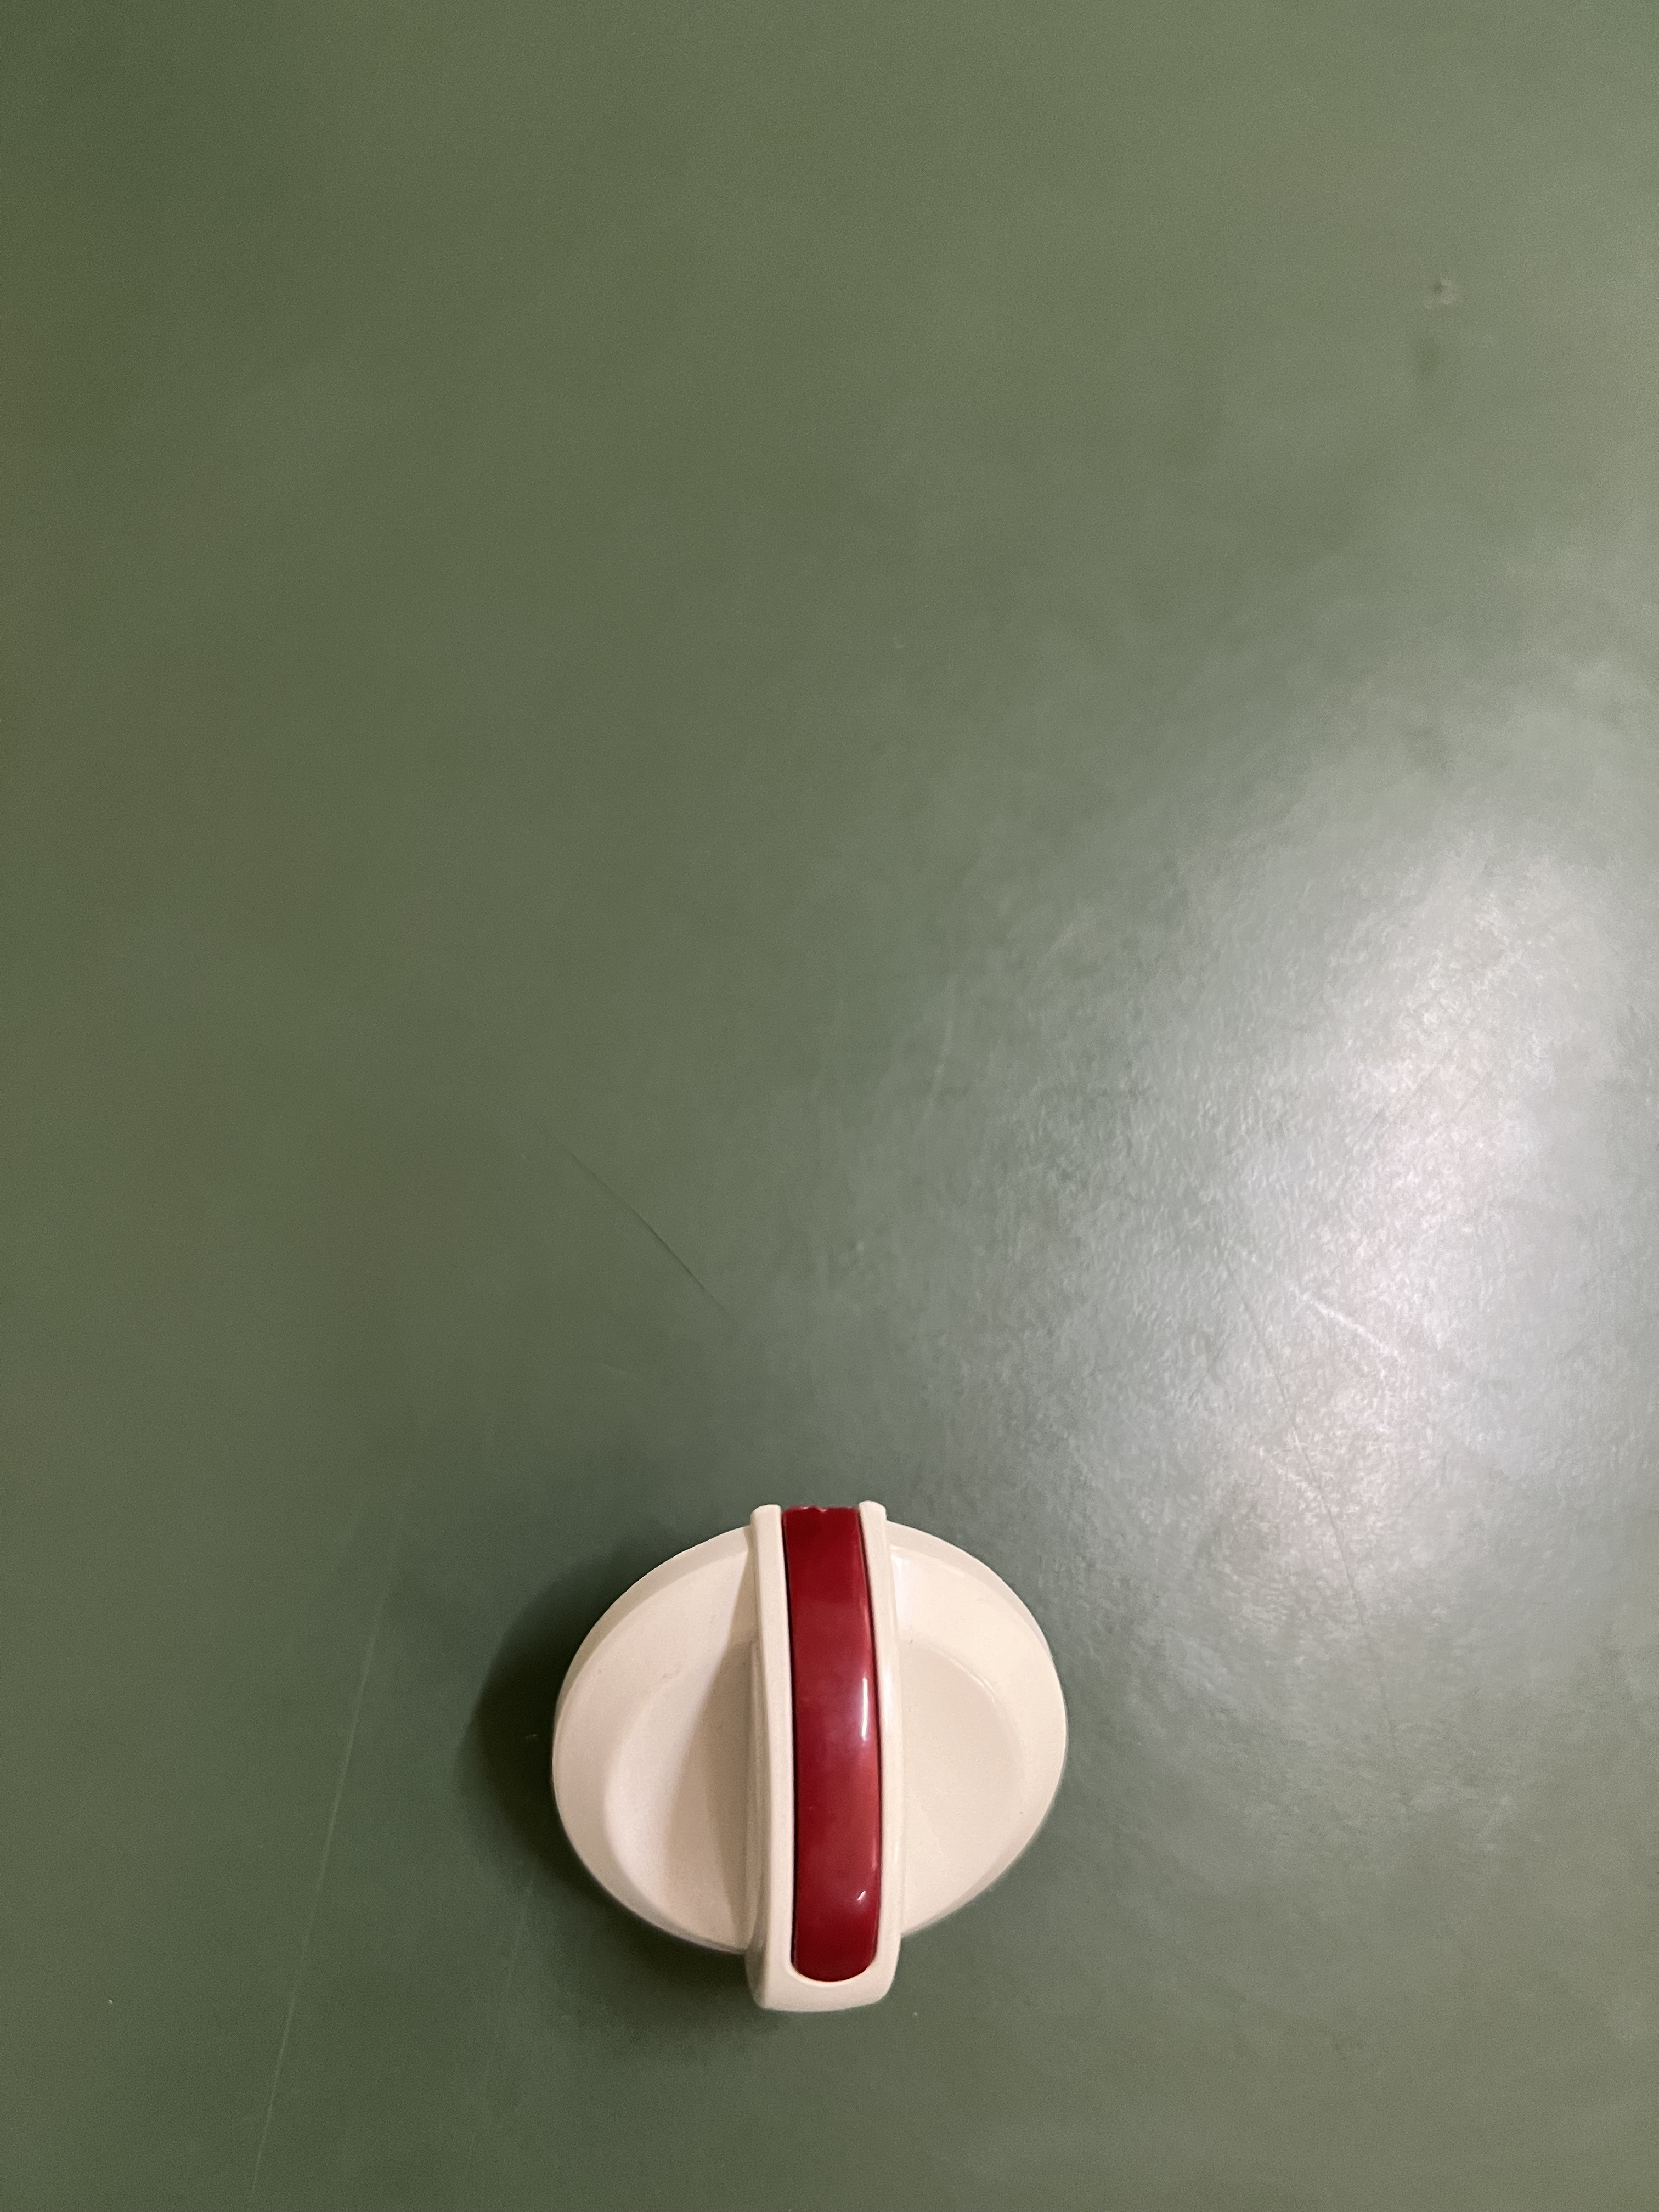regulator: (535, 1483, 1091, 2037)
